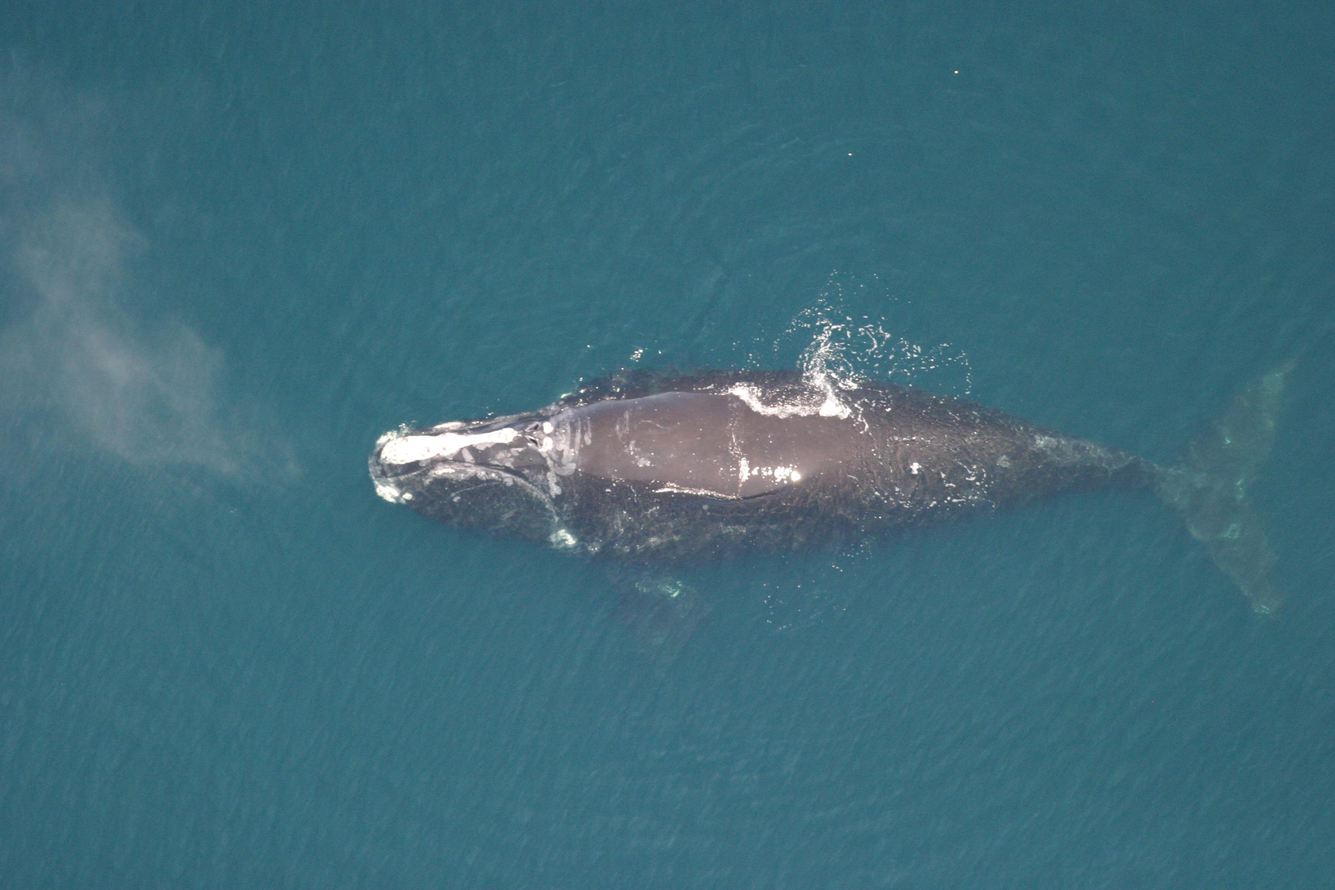whale: (359, 334, 1335, 651)
